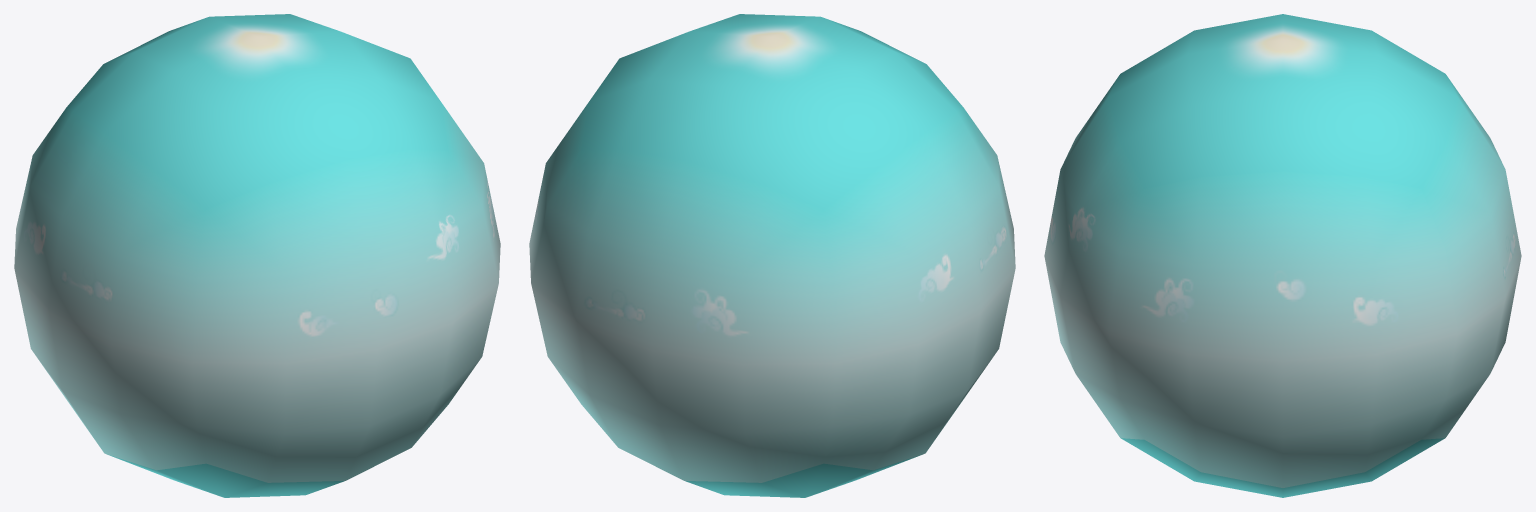
The model's file is saa3.fbx.
The picture shows the model from 3 angles, left to right: view 1: azimuth 30°, elevation 25°; view 2: azimuth 150°, elevation 25°; view 3: azimuth 270°, elevation 25°; orthographic projection.
Visible parts, largest first — view 1: Cube.003; view 2: Cube.003; view 3: Cube.003.
Part boxes in pixels (bbox=[...]): Cube.003: bbox=[14, 14, 500, 497]; Cube.003: bbox=[529, 14, 1015, 497]; Cube.003: bbox=[1044, 14, 1521, 497].
Bounding box in the file's own units: 84069 × 84069 × 84069.
